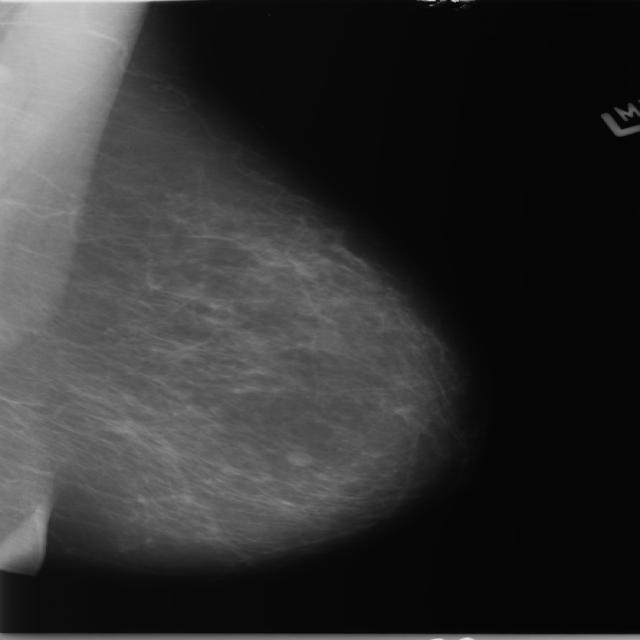tumour: (282, 447, 313, 466)
